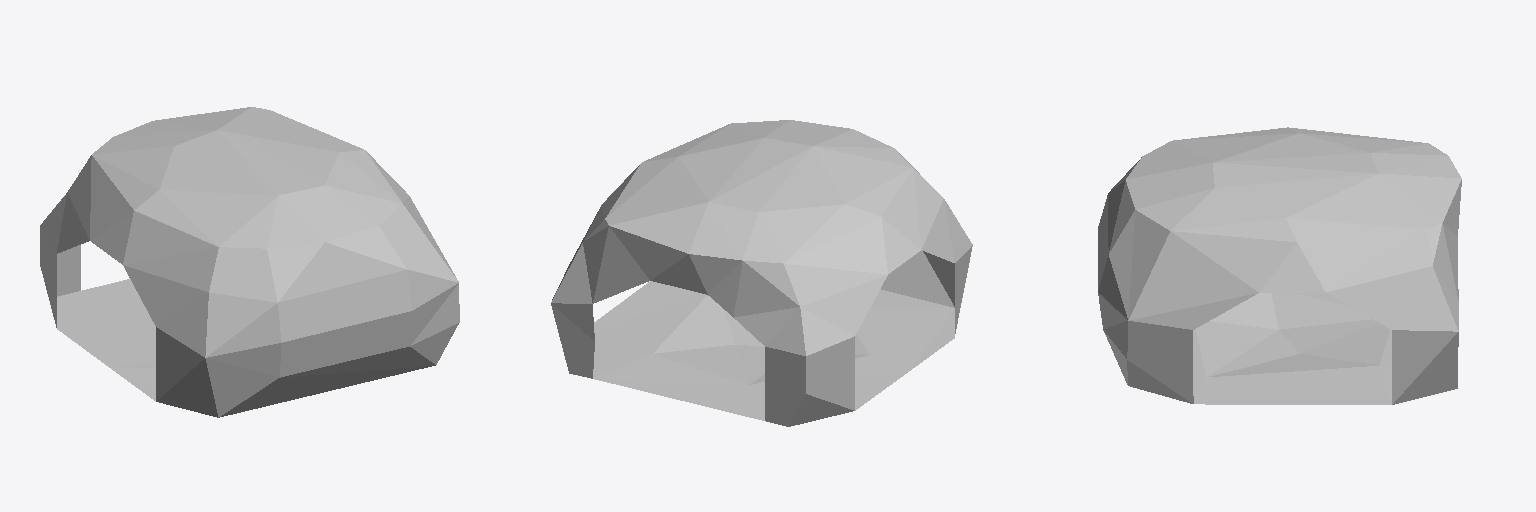
The model's file is Mesh_CavePack_Room_Tjunction_lod1.obj.
The picture shows the model from 3 angles: view 1: azimuth 30°, elevation 25°; view 2: azimuth 150°, elevation 25°; view 3: azimuth 270°, elevation 25°; orthographic projection.
Parts seen in each view (by area): view 1: Plane.007; view 2: Plane.007; view 3: Plane.007.
Part boxes in pixels (x1,y1,x2,y2): Plane.007: (40,107,459,417); Plane.007: (551,120,972,426); Plane.007: (1098,127,1461,404).
Bounding box in the file's own units: 16.02 × 9.37 × 17.6.